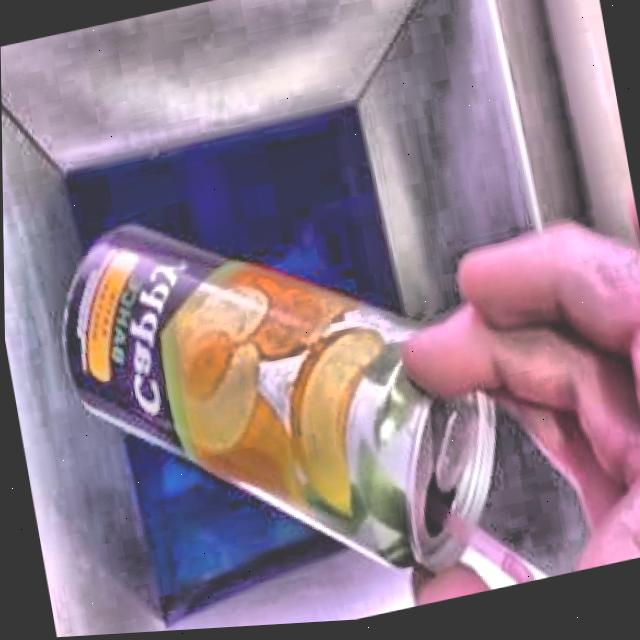metal: (63, 230, 491, 575)
